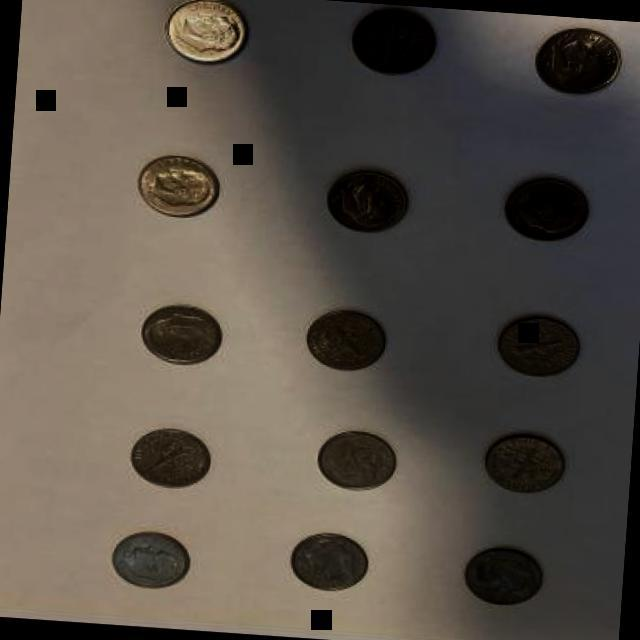Dime: (342, 3, 442, 80), (532, 26, 626, 100), (323, 166, 419, 238), (134, 151, 223, 227), (496, 308, 587, 382), (500, 173, 591, 247), (159, 0, 254, 70), (481, 428, 575, 498), (459, 542, 552, 612), (136, 301, 228, 371), (302, 306, 392, 376), (312, 424, 400, 494), (284, 528, 372, 598), (127, 424, 217, 491), (109, 528, 195, 598)
